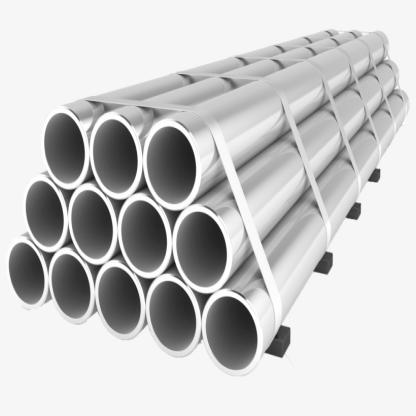PVC: (4, 27, 410, 376)
